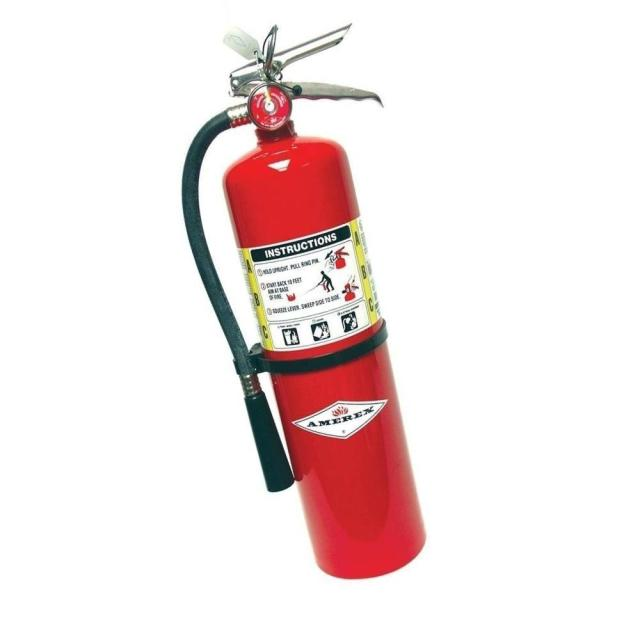fire_extinguisher: (176, 19, 431, 584)
